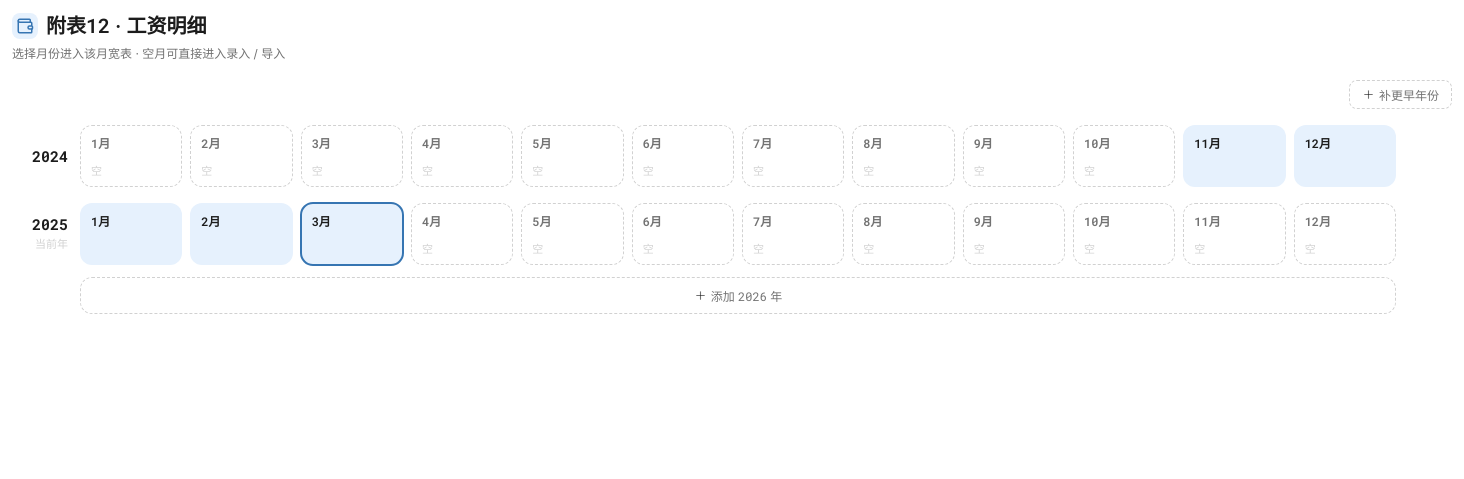
Test: 附表12 · 一层选期门 › 点月格 → 宽表，年和月一起定（跨年也对）
The image size is (1464, 479).
Expected: the element with class "bmm-yrow" that starts with "10月" is shown, [12,125,1452,187]
Click the button with class "bmm-card" showing "12月". click: (1345, 156)
box: [1294,125,1396,187]
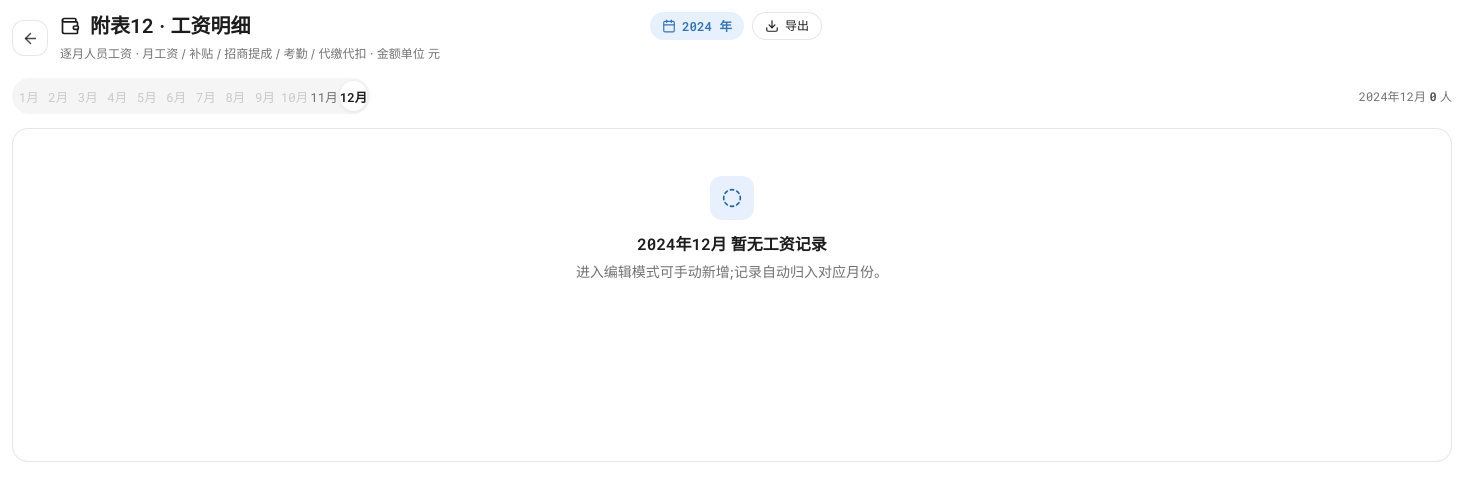
Now no buttons with class "bmm-card" are shown
Now the element with class "s12-page" is shown
